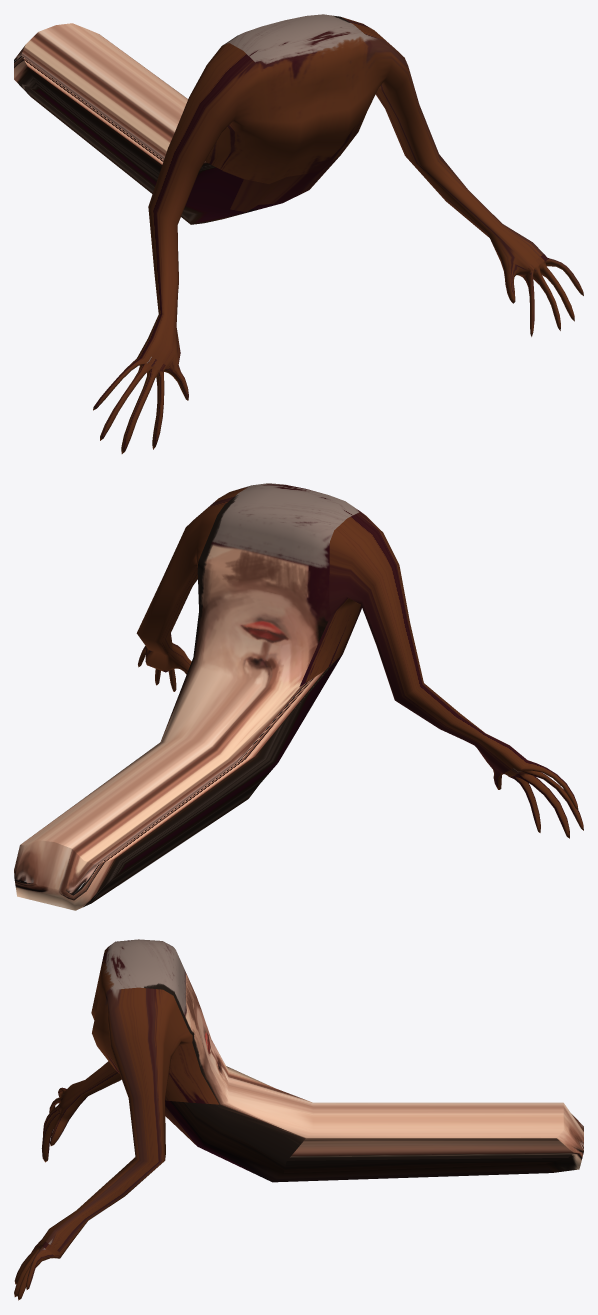
Rendered from ladybody.fbx.
3 renders of one model, top to bottom at view 1: azimuth 30°, elevation 25°; view 2: azimuth 150°, elevation 25°; view 3: azimuth 270°, elevation 25°, orthographic. The views are drawn at different scales.
Parts seen in each view (by area): view 1: body; view 2: body; view 3: body.
Boxes of the visible parts, x1,y1,x2,y2 form: body: (14,14,583,453); body: (14,483,583,910); body: (14,939,583,1300).
Size of the model in its own units: 10.41 by 7.07 by 12.5.
1 material, 1 textured.
